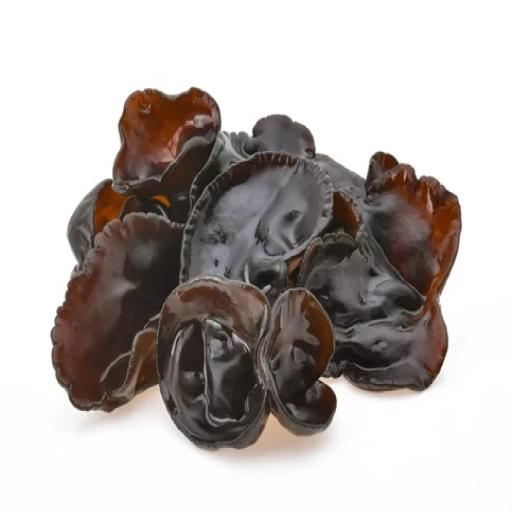Wood Ear Mushroom: (46, 73, 460, 469)
